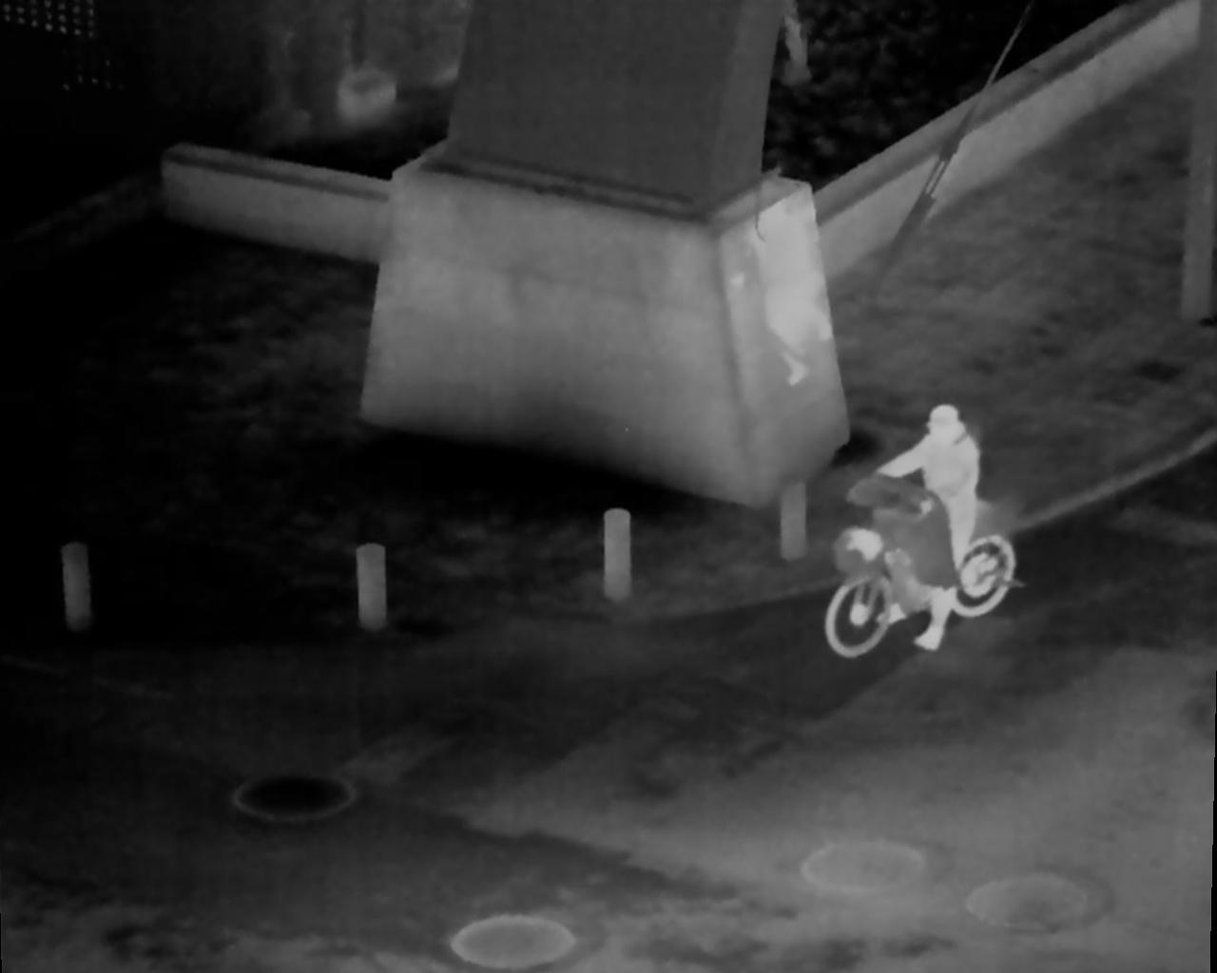person: (878, 408, 983, 642)
